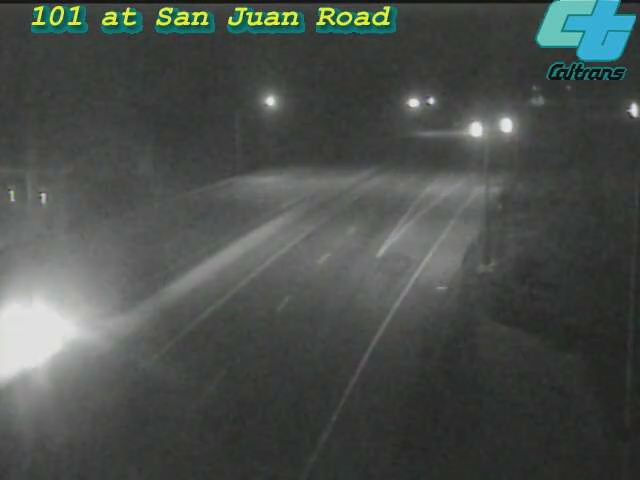vehicle: (1, 280, 78, 390), (449, 105, 499, 155), (479, 101, 529, 151), (610, 86, 640, 136)
